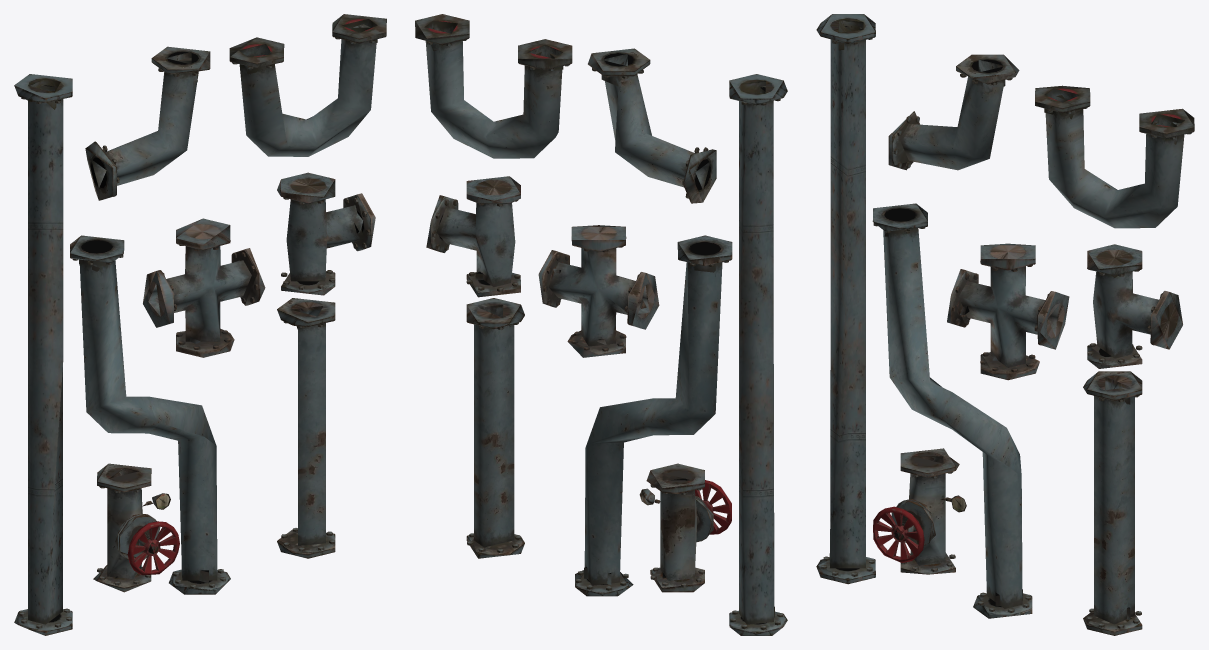
File: modular_industrial_pipes_01.glb
3 views of the same model, side by side, from view 1: azimuth 30°, elevation 25°; view 2: azimuth 150°, elevation 25°; view 3: azimuth 330°, elevation 25° (orthographic).
Parts seen in each view (by area): view 1: modular_industrial_pipes_01_pipe01, modular_industrial_pipes_01_pipe05; view 2: modular_industrial_pipes_01_pipe01, modular_industrial_pipes_01_pipe05; view 3: modular_industrial_pipes_01_pipe01, modular_industrial_pipes_01_pipe05.
Part boxes in pixels (x1,y1,x2,y2): modular_industrial_pipes_01_pipe01: [14, 46, 335, 635]; modular_industrial_pipes_01_pipe05: [93, 14, 386, 592]; modular_industrial_pipes_01_pipe01: [466, 48, 787, 635]; modular_industrial_pipes_01_pipe05: [415, 14, 731, 592]; modular_industrial_pipes_01_pipe01: [816, 14, 1142, 635]; modular_industrial_pipes_01_pipe05: [873, 85, 1194, 574].
Size of the model in its own units: 1.4 by 1.95 by 0.3073.
2 materials, 2 textured.
